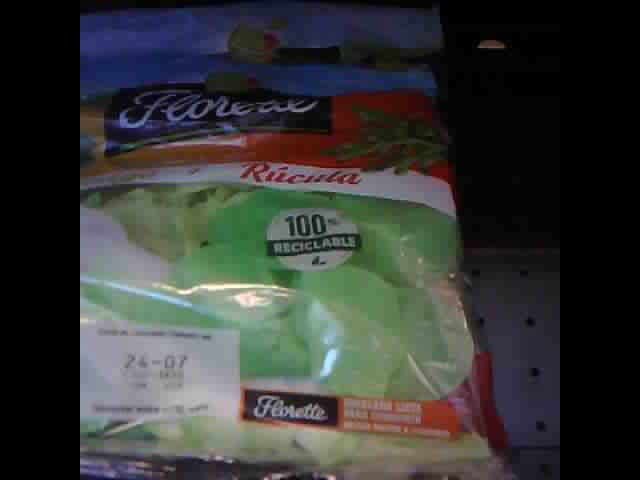florette: (79, 54, 519, 477), (82, 7, 444, 66)
